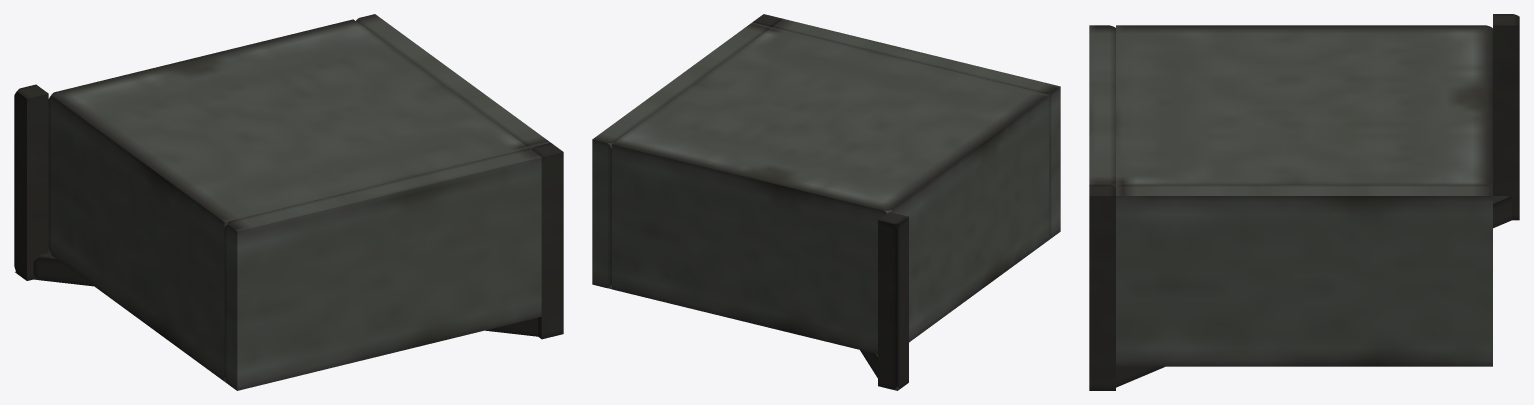
File: ceiling_vent_corner.obj
3 views of the same model, side by side, from view 1: azimuth 30°, elevation 25°; view 2: azimuth 150°, elevation 25°; view 3: azimuth 270°, elevation 25° (orthographic). The views are drawn at different scales.
Visible parts, largest first — view 1: nz, nC, nx, ny, nB, nA; view 2: nz, nB, nx, nC; view 3: nB, nz, ny, nx, nC, nA.
Part boxes in pixels (box(x1,y1,x2,y2)): nz: box(48, 19, 528, 381); nC: box(224, 148, 541, 390); nx: box(14, 84, 48, 280); ny: box(531, 143, 563, 339); nB: box(356, 14, 550, 149); nA: box(33, 248, 537, 336); nz: box(612, 27, 1049, 354); nB: box(592, 22, 771, 289); nx: box(878, 212, 908, 390); nC: box(772, 19, 1060, 239); nB: box(1116, 184, 1492, 366); nz: box(1116, 25, 1492, 195); ny: box(1089, 184, 1115, 390); nx: box(1493, 14, 1519, 220); nC: box(1089, 25, 1115, 186); nA: box(1116, 196, 1511, 387).
Bounding box in the file's own units: 1 × 0.5 × 1.
Materials: 1 (1 with a texture image).
